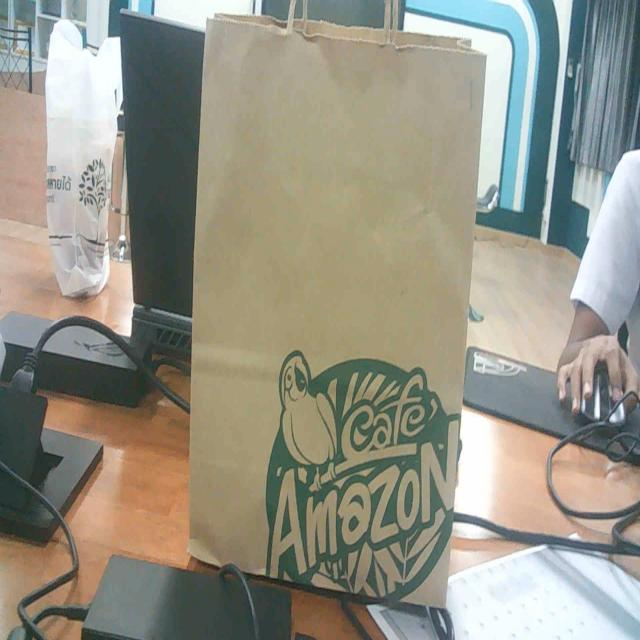bag: (165, 0, 508, 634)
